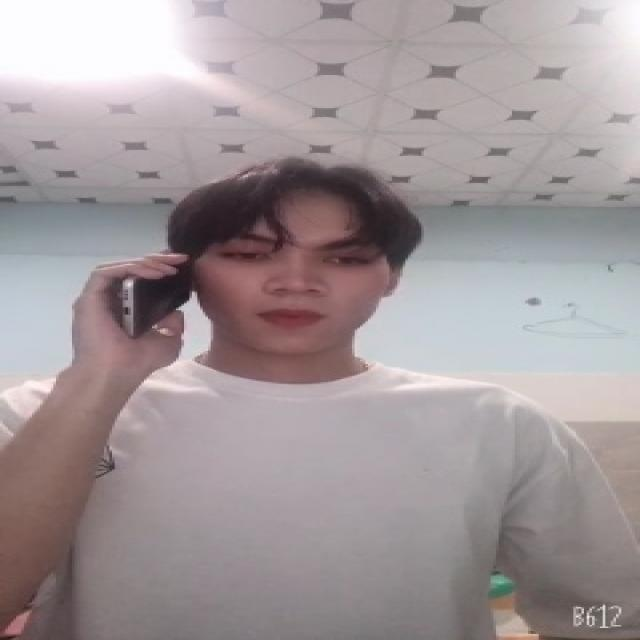Phone: (116, 250, 197, 345)
